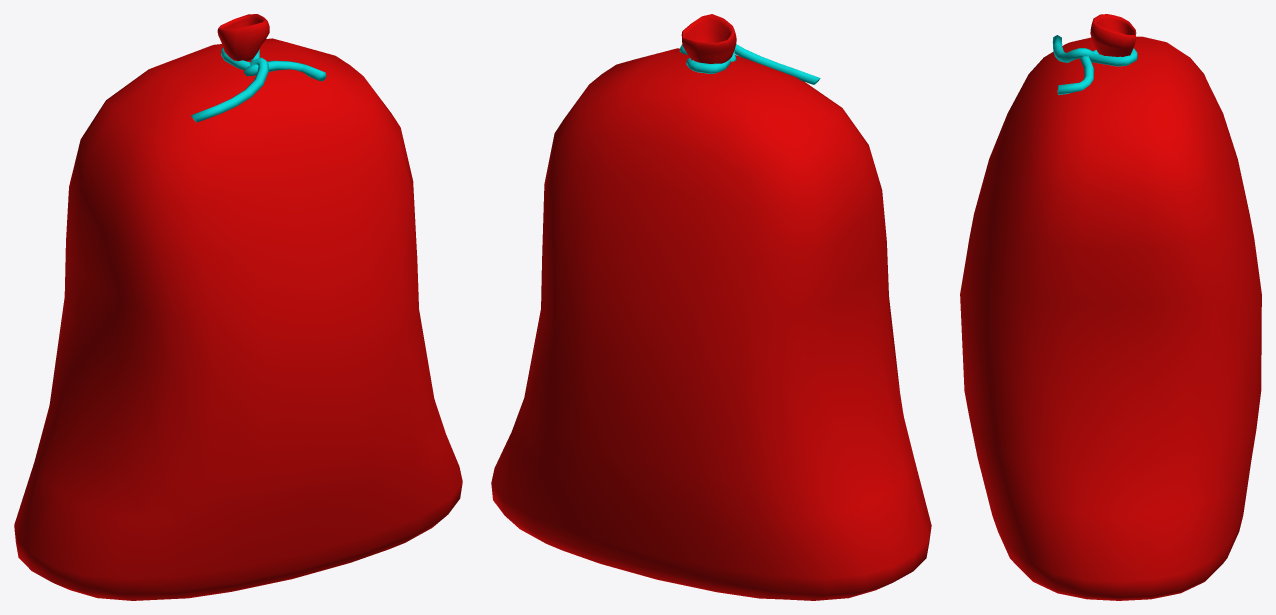
The model's file is SM_flourBag.fbx.
3 views of the same model, side by side, from view 1: azimuth 30°, elevation 25°; view 2: azimuth 150°, elevation 25°; view 3: azimuth 270°, elevation 25° (orthographic). The views are drawn at different scales.
Parts seen in each view (by area): view 1: Cube.033; view 2: Cube.033; view 3: Cube.033.
Part boxes in pixels (x1,y1,x2,y2): Cube.033: [14, 14, 462, 600]; Cube.033: [491, 14, 931, 600]; Cube.033: [960, 14, 1261, 600].
Bounding box in the file's own units: 89.25 × 109 × 58.69.
